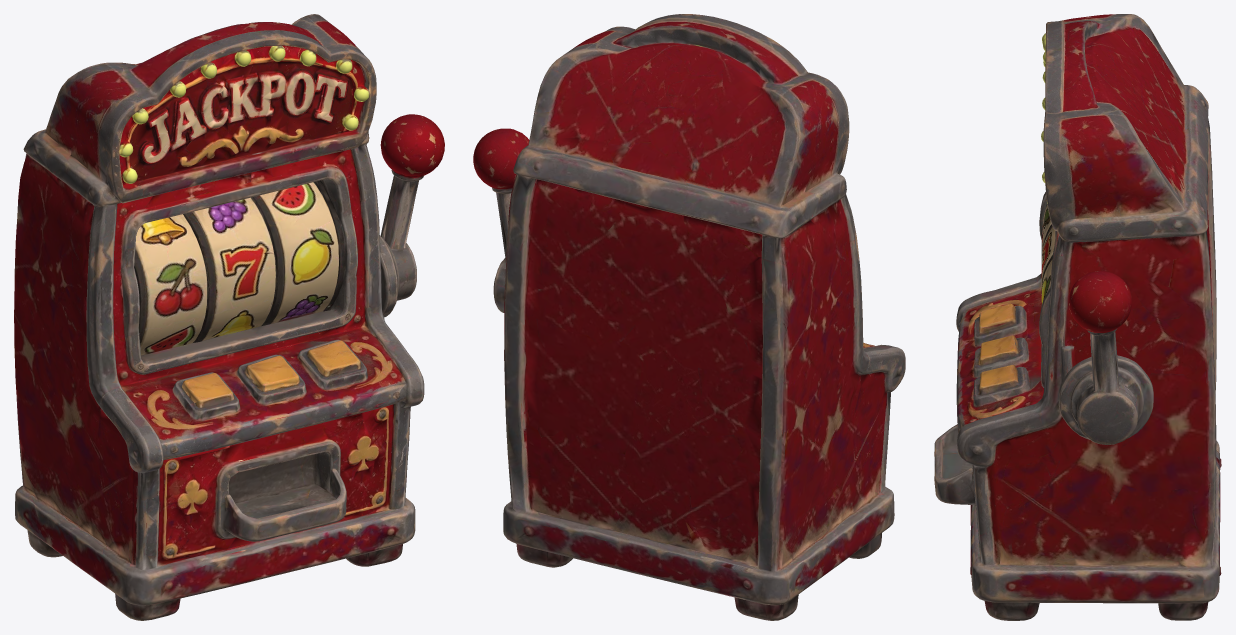
File: d_slotmachine.glb
3 views of the same model, side by side, from view 1: azimuth 30°, elevation 25°; view 2: azimuth 150°, elevation 25°; view 3: azimuth 270°, elevation 25° (orthographic). The views are drawn at different scales.
Bounding box in the file's own units: 1.4 × 1.9 × 0.951.
Materials: 1 (1 with a texture image).
